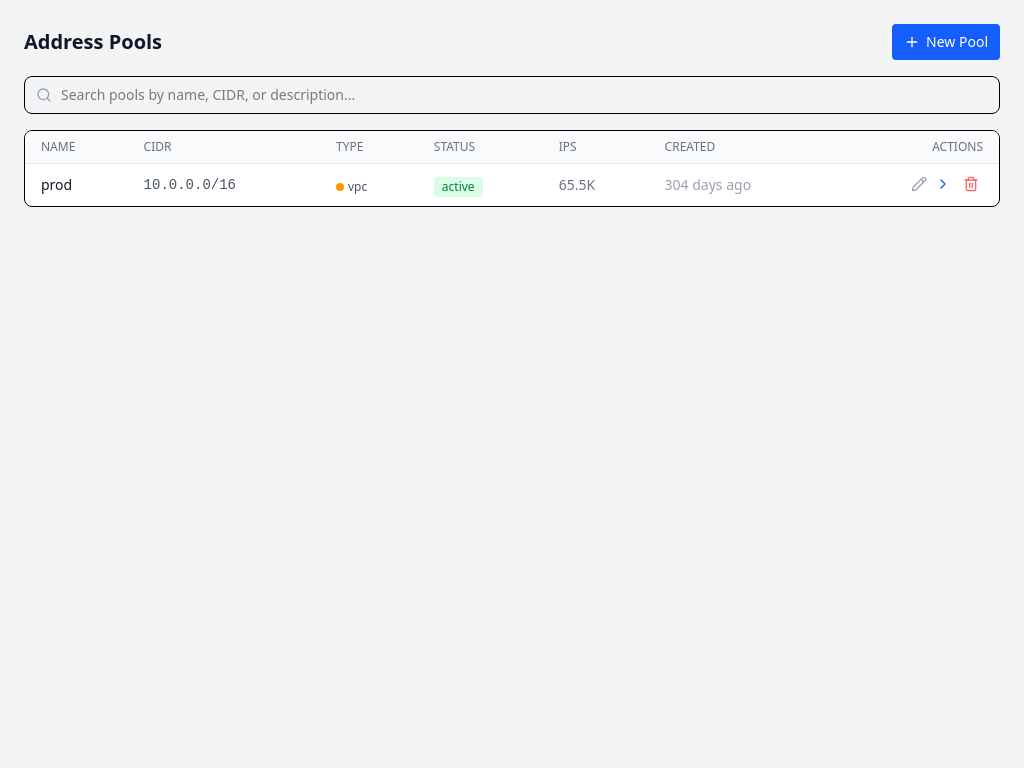
Scenario: pool-type <select> options come from POOL_TYPES › lists every pool type in the create-pool select
Click the button "New Pool".
click(946, 42)  # box [892,24,1000,60]
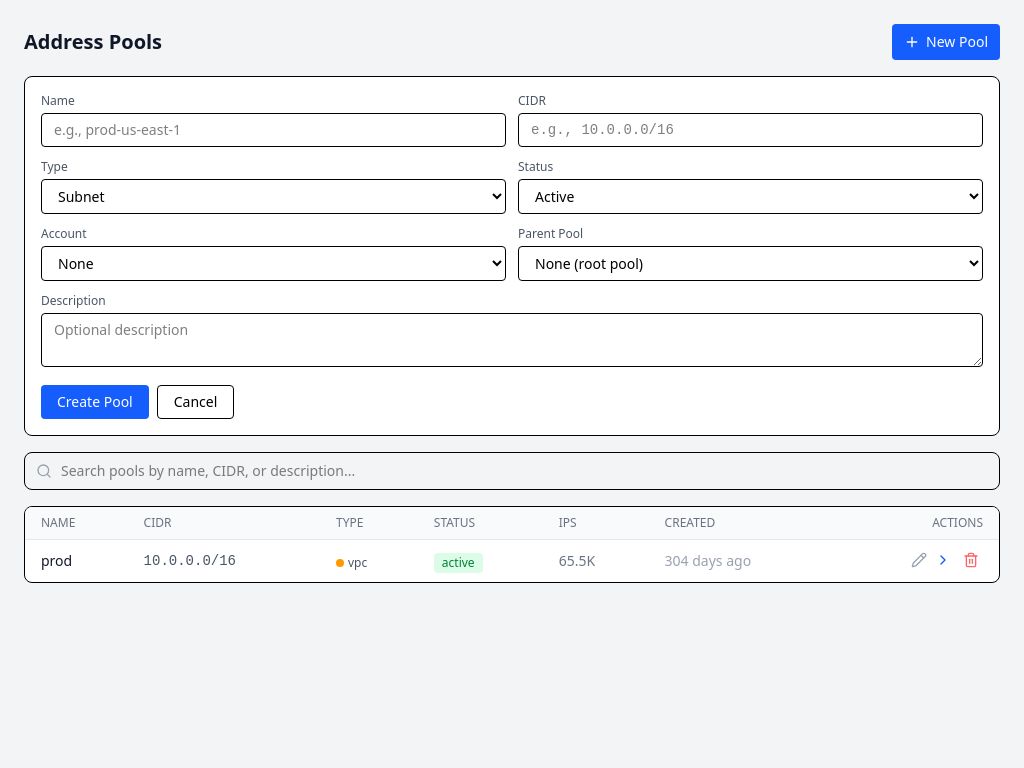
Result: the dropdown with id "create-pool-type" is shown at [41,179,506,214]
